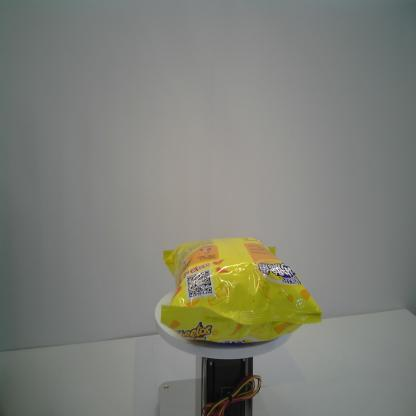Puffed Food: (159, 235, 322, 344)
